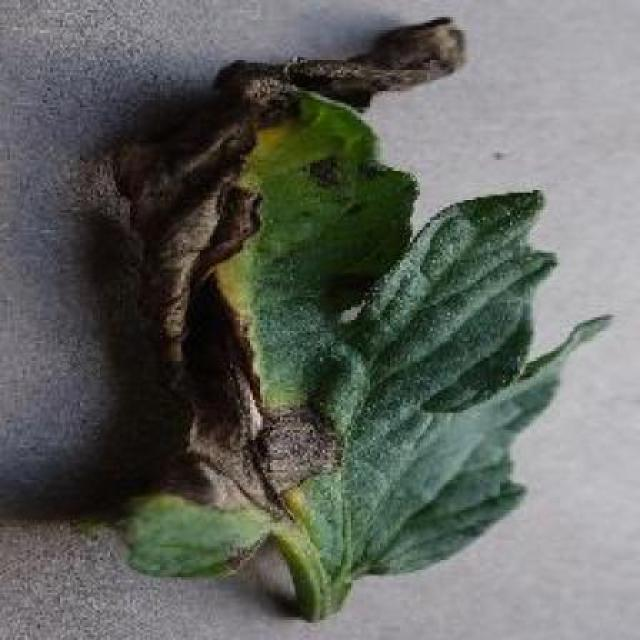Early Blight: (102, 76, 617, 585)
